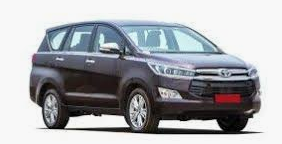car: (24, 17, 264, 134)
